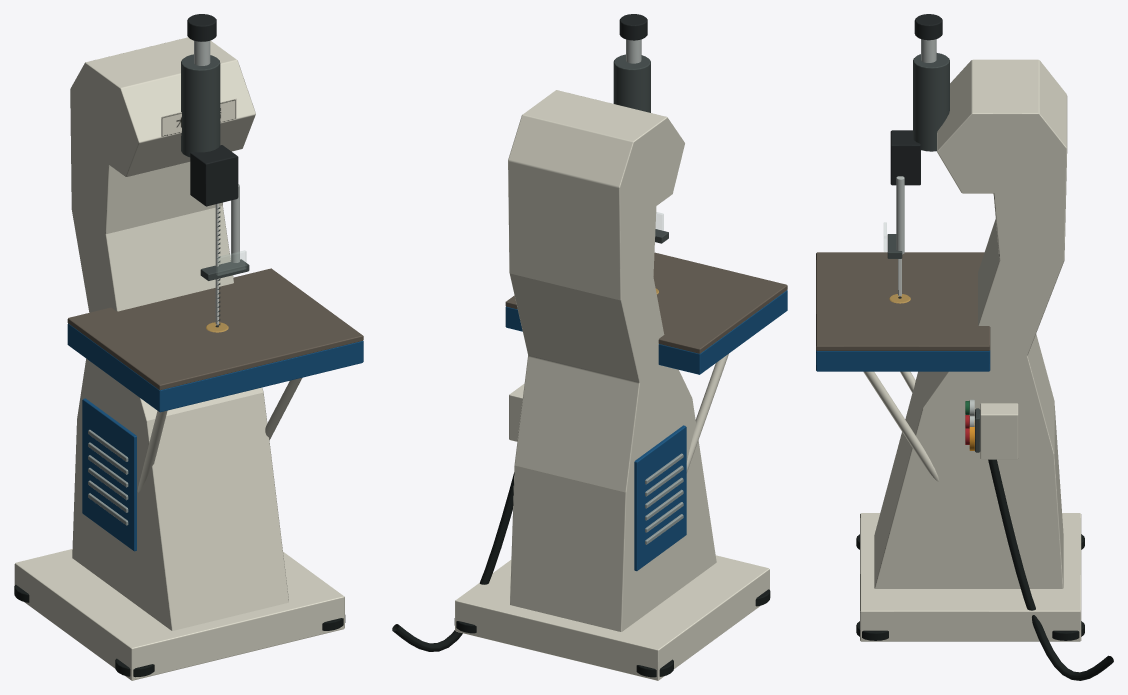
Rendered from scroll.glb.
3 renders of one model, left to right at view 1: azimuth 30°, elevation 25°; view 2: azimuth 150°, elevation 25°; view 3: azimuth 270°, elevation 25°, orthographic. The views are drawn at different scales.
Visible parts, largest first — view 1: SCROLL_01_Body, SCROLL_01_PresserFoot_Mesh, SCROLL_01_Blade_Mesh; view 2: SCROLL_01_Body; view 3: SCROLL_01_Body, SCROLL_01_PresserFoot_Mesh.
Part boxes in pixels (box(x1,y1,x2,y2)): SCROLL_01_Body: box(14, 14, 363, 680); SCROLL_01_PresserFoot_Mesh: box(200, 184, 249, 280); SCROLL_01_Blade_Mesh: box(215, 203, 220, 325); SCROLL_01_Body: box(392, 14, 787, 680); SCROLL_01_Body: box(816, 14, 1113, 680); SCROLL_01_PresserFoot_Mesh: box(884, 176, 904, 258).
Size of the model in its own units: 0.7552 by 1.71 by 0.7676.
Materials: 15 (1 with a texture image).
